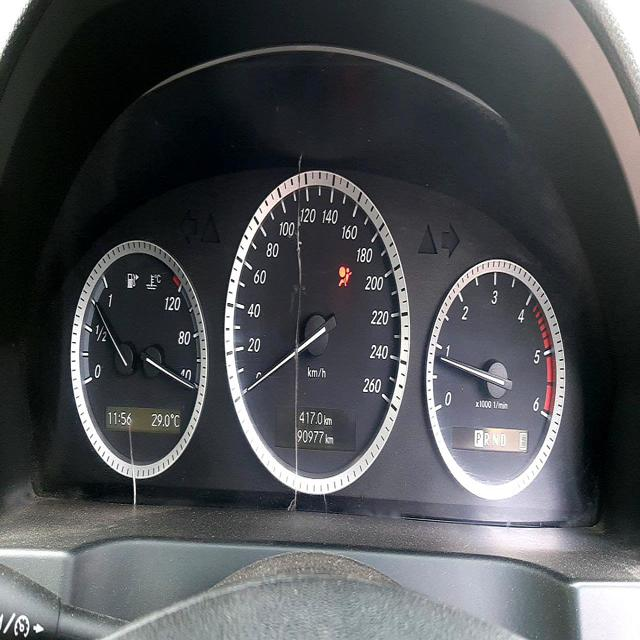odometer: (294, 428, 323, 448)
